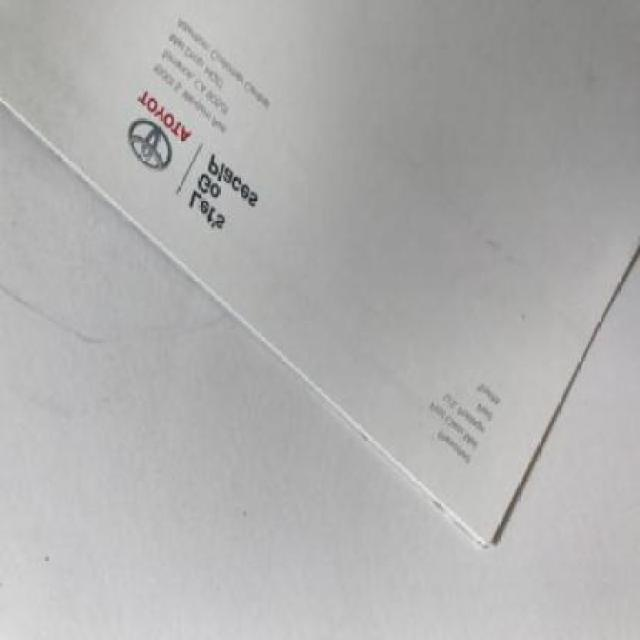PAPER: (0, 1, 638, 552)
